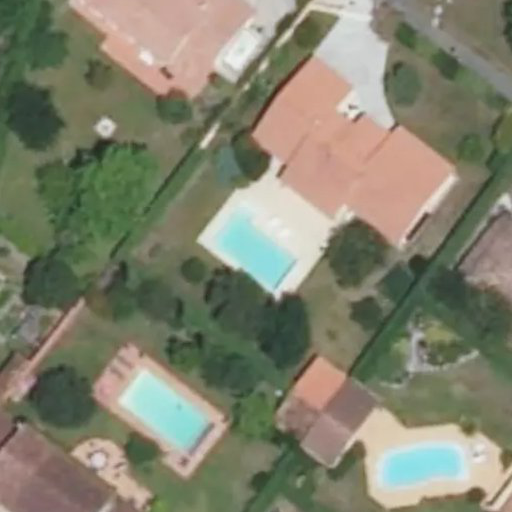pool: (210, 237, 310, 246)
